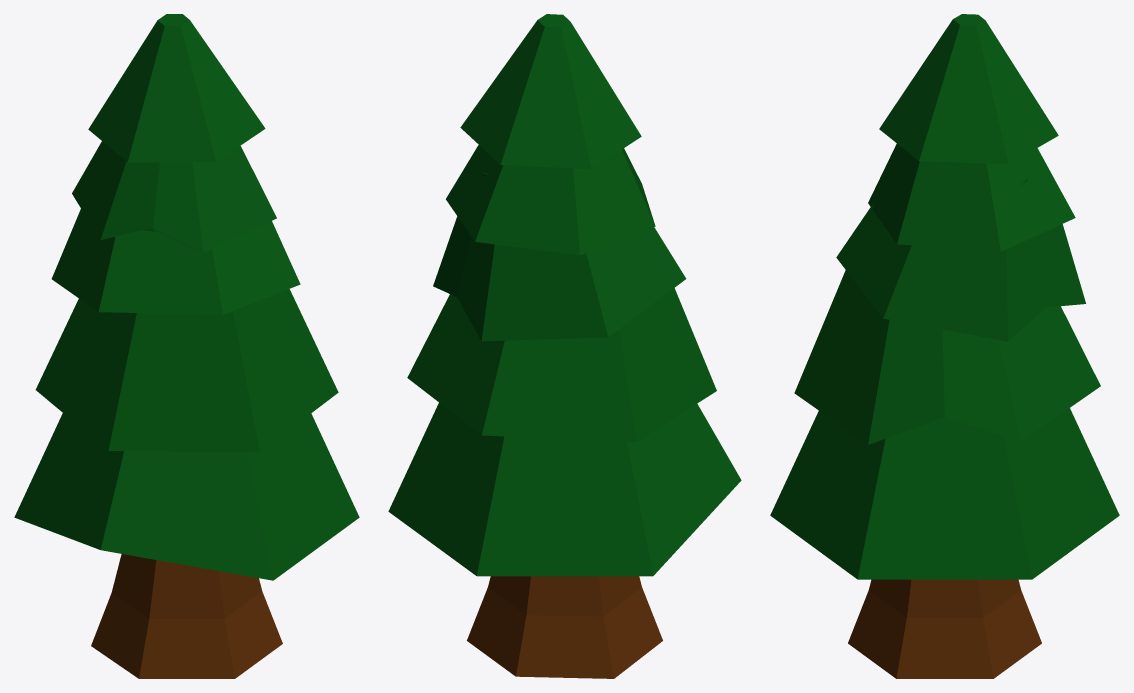
The model's file is tree2.fbx.
3 views of the same model, side by side, from view 1: azimuth 30°, elevation 25°; view 2: azimuth 150°, elevation 25°; view 3: azimuth 270°, elevation 25° (orthographic). The views are drawn at different scales.
Visible parts, largest first — view 1: Cylinder.001, Cylinder.002, Cylinder, Cylinder.003, Cylinder.005, Cylinder.004; view 2: Cylinder.001, Cylinder.002, Cylinder.003, Cylinder.005, Cylinder, Cylinder.004; view 3: Cylinder.001, Cylinder.002, Cylinder.003, Cylinder.005, Cylinder, Cylinder.004.
Part boxes in pixels (x1=…): Cylinder.001: x1=14, y1=413, x2=359, y2=580; Cylinder.002: x1=35, y1=289, x2=338, y2=452; Cylinder: x1=91, y1=554, x2=282, y2=678; Cylinder.003: x1=51, y1=209, x2=300, y2=314; Cylinder.005: x1=88, y1=14, x2=265, y2=162; Cylinder.004: x1=72, y1=141, x2=276, y2=252; Cylinder.001: x1=388, y1=402, x2=741, y2=576; Cylinder.002: x1=407, y1=288, x2=716, y2=441; Cylinder.003: x1=433, y1=173, x2=686, y2=341; Cylinder.005: x1=460, y1=14, x2=641, y2=169; Cylinder: x1=467, y1=576, x2=662, y2=678; Cylinder.004: x1=446, y1=145, x2=655, y2=255; Cylinder.001: x1=770, y1=408, x2=1119, y2=579; Cylinder.002: x1=794, y1=270, x2=1100, y2=444; Cylinder.003: x1=836, y1=178, x2=1085, y2=341; Cylinder.005: x1=879, y1=14, x2=1058, y2=164; Cylinder: x1=848, y1=579, x2=1041, y2=678; Cylinder.004: x1=868, y1=143, x2=1075, y2=251.
Bounding box in the file's own units: 346 × 789 × 400.
